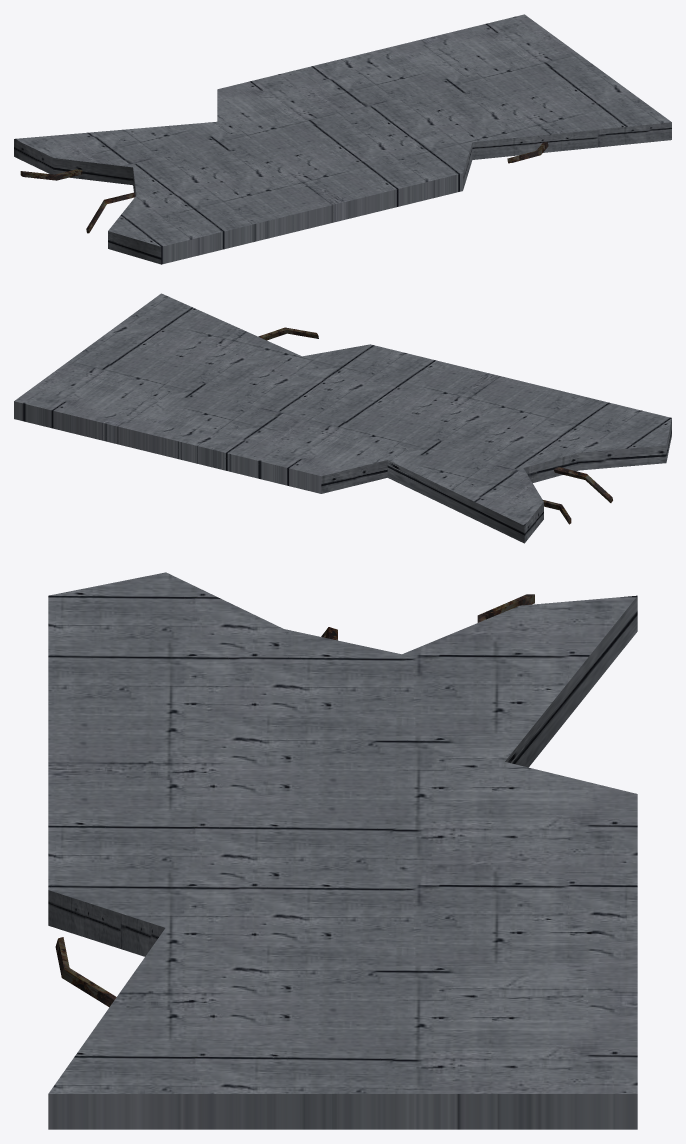
File: PlatformaSklad.FBX
3 renders of one model, top to bottom at view 1: azimuth 30°, elevation 25°; view 2: azimuth 150°, elevation 25°; view 3: azimuth 270°, elevation 25°, orthographic. The views are drawn at different scales.
Parts seen in each view (by area): view 1: Box001; view 2: Box001; view 3: Box001.
Boxes of the visible parts, x1=… form: Box001: x1=14, y1=14, x2=671, y2=264; Box001: x1=14, y1=293, x2=671, y2=543; Box001: x1=48, y1=572, x2=637, y2=1129.
Bounding box in the file's own units: 62.81 × 3.94 × 30.
